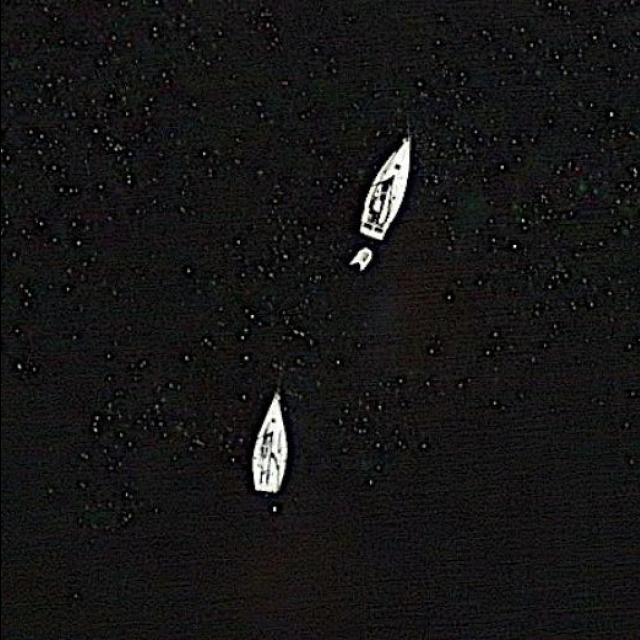ship: (359, 133, 412, 241), (250, 392, 289, 494), (350, 248, 376, 272)
